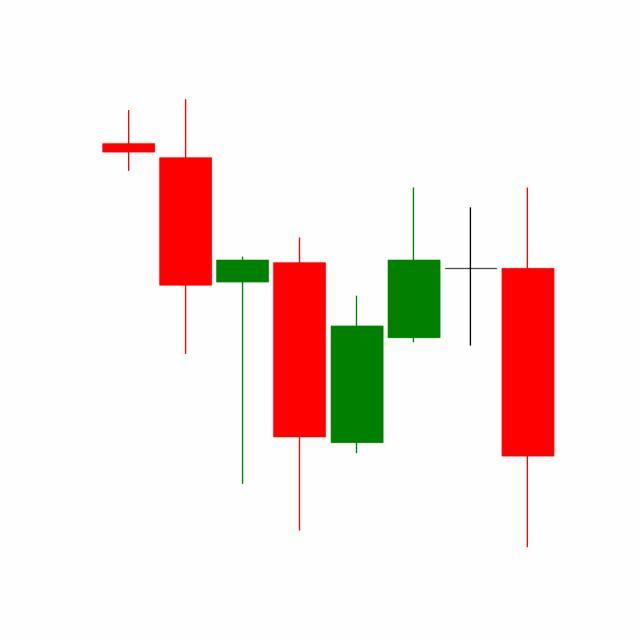Hikkake Pattern: (270, 184, 555, 549)
